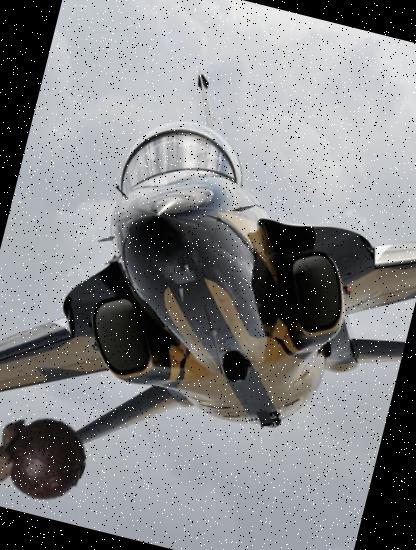Mangostan: (0, 396, 97, 516)
